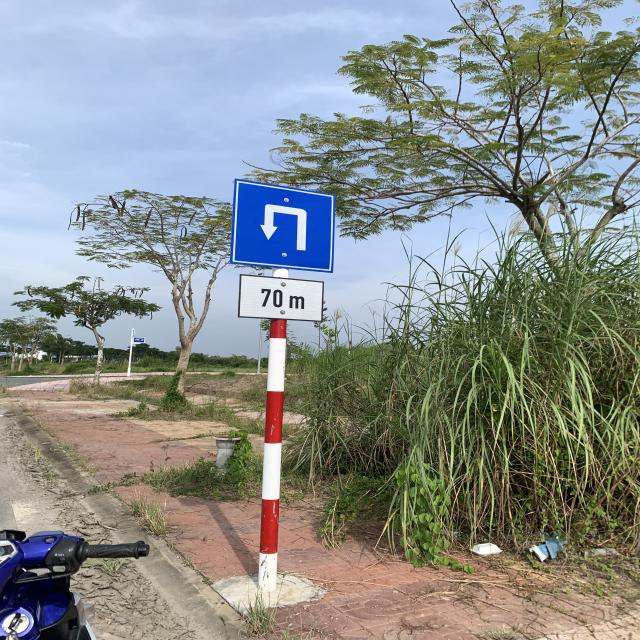Den_Giao_Thong: (234, 182, 336, 273)
